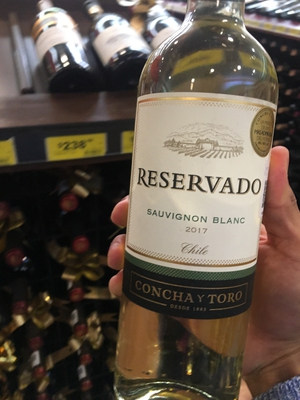reservado sauvignon blanc: (113, 34, 281, 396)
